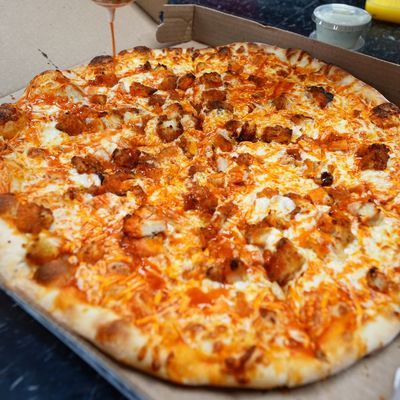pasta: (364, 0, 400, 25)
